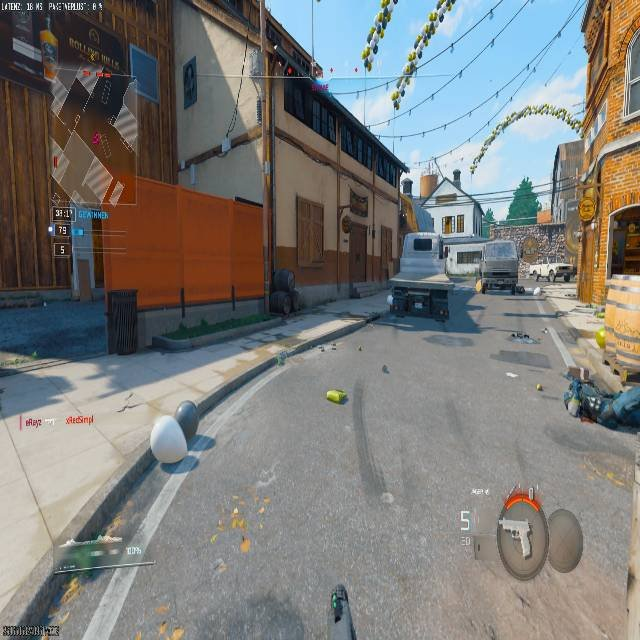player: (269, 268, 299, 319)
